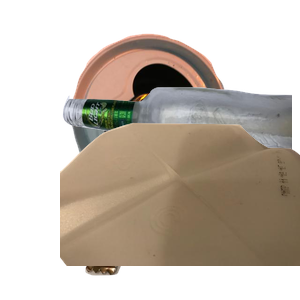glass: (60, 84, 300, 260)
metal: (68, 31, 288, 211)
plastic: (60, 120, 300, 300)
trash: (83, 160, 233, 300)
